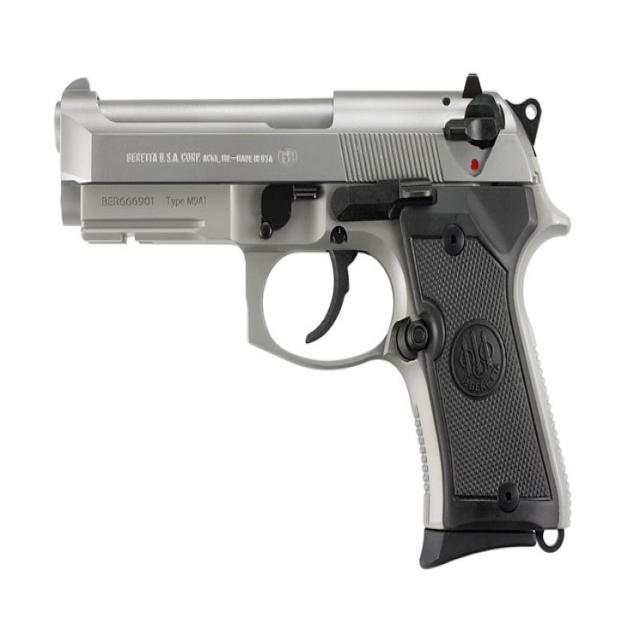Gun: (36, 49, 592, 584)
